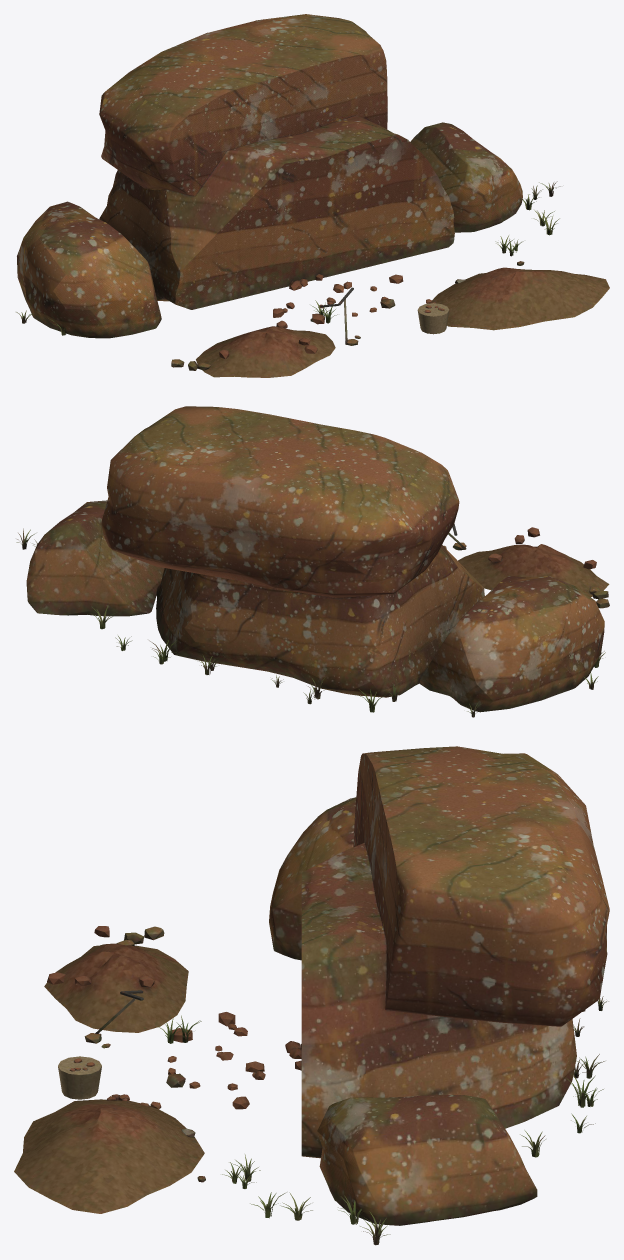
Rendered from iron_outcrop.glb.
3 views of the same model, one above another, from view 1: azimuth 30°, elevation 25°; view 2: azimuth 150°, elevation 25°; view 3: azimuth 270°, elevation 25° (orthographic). The views are drawn at different scales.
Visible parts, largest first — view 1: iron_outcrop_LOD0; view 2: iron_outcrop_LOD0; view 3: iron_outcrop_LOD0.
Part boxes in pixels (bbox=[...]): iron_outcrop_LOD0: bbox=[16, 14, 609, 377]; iron_outcrop_LOD0: bbox=[16, 406, 609, 717]; iron_outcrop_LOD0: bbox=[14, 746, 609, 1245].
Size of what is drawn, in the model's own units: 12.56 by 4.11 by 8.61.
1 material, 1 textured.
